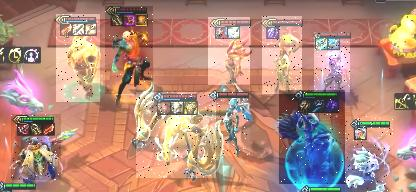1_yasuo: (314, 32, 350, 92)
2_gnar: (345, 116, 393, 192)
2_idas: (136, 92, 216, 178)
2_kaisa: (212, 88, 250, 156)
2_shiohyu: (279, 90, 345, 184)
3_jax: (11, 114, 61, 180)
3_karma: (262, 16, 302, 94)
3_leesin: (105, 6, 153, 94)
3_sett: (208, 17, 250, 85)
3_volibear: (56, 14, 100, 102)
